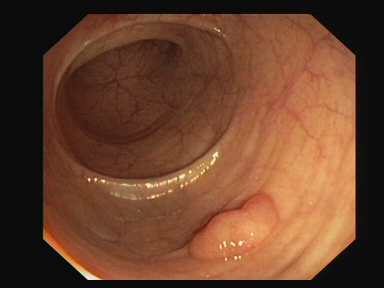polyp: (166, 182, 319, 267)
